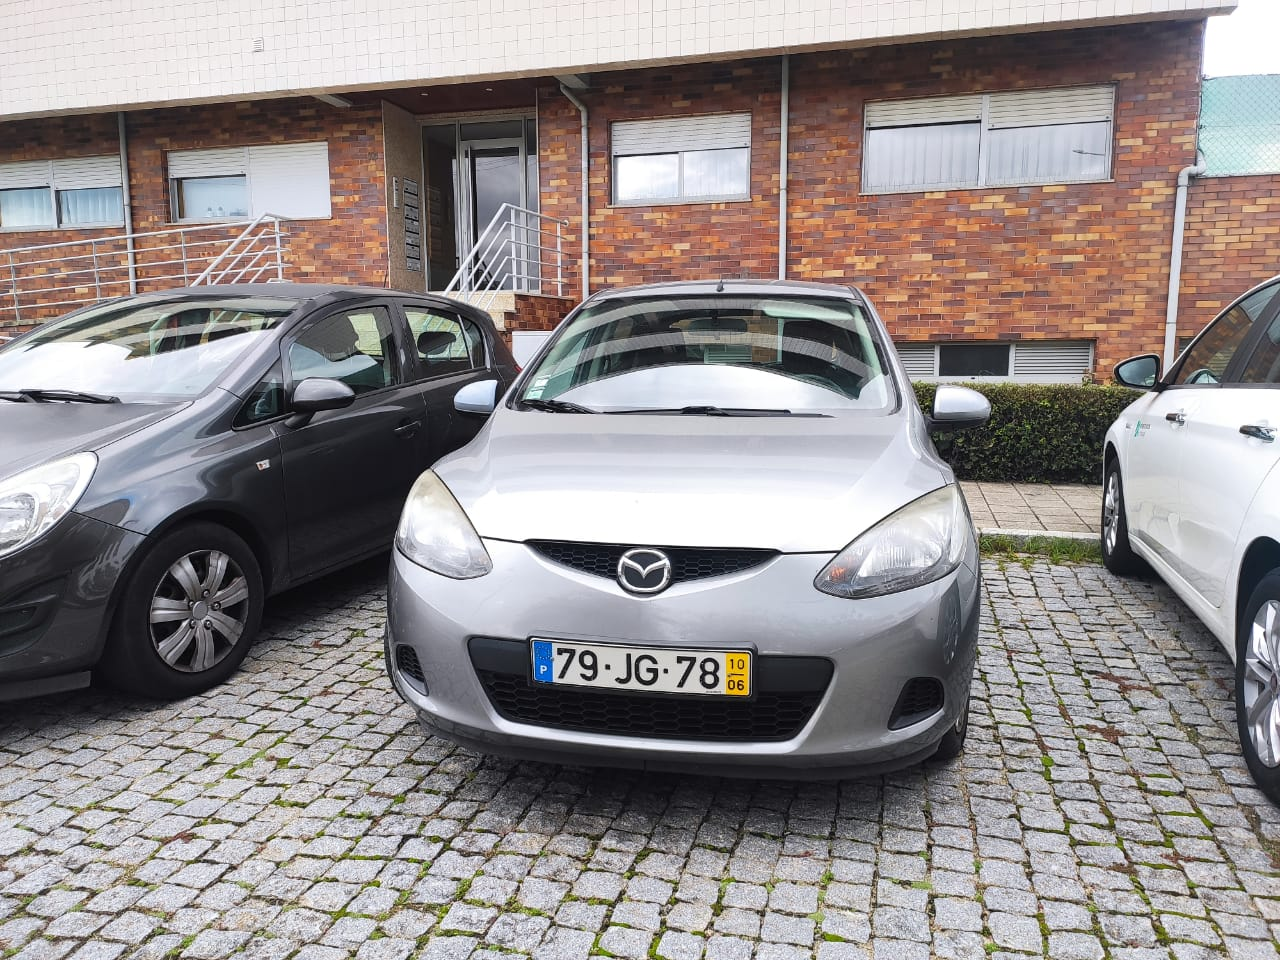carplate: (529, 632, 755, 700)
